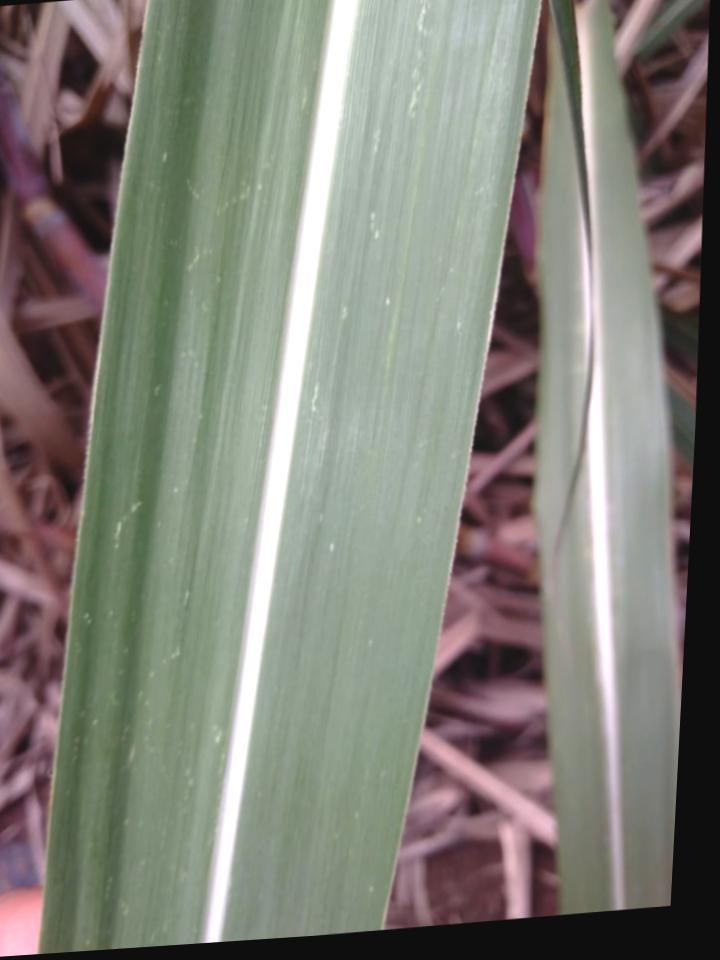Healthy: (40, 0, 542, 954), (539, 0, 677, 911)
